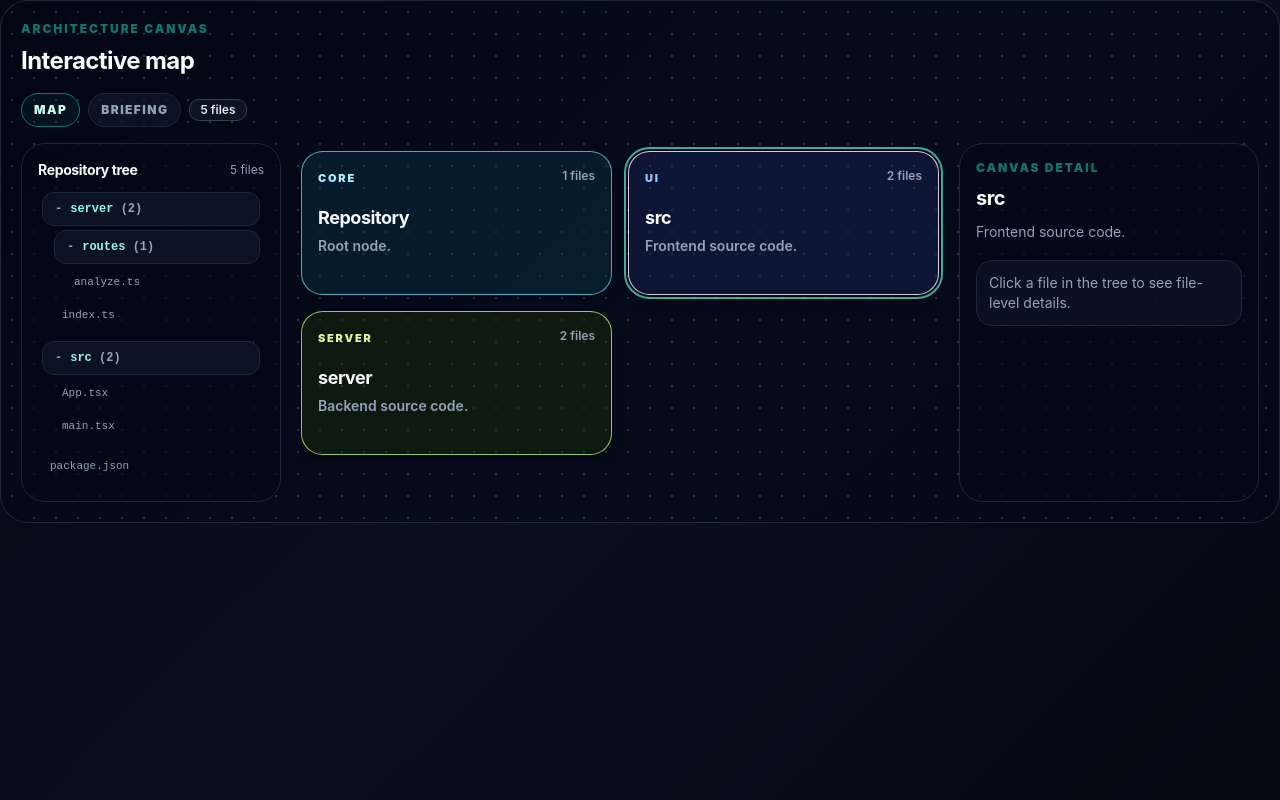
Test: ArchitectureMap › shows five open-first shortcuts and repository risks
Expected: the heading "Full-stack web application" is not shown
Click the button "Briefing" at point(135, 110), box [88, 93, 181, 127]
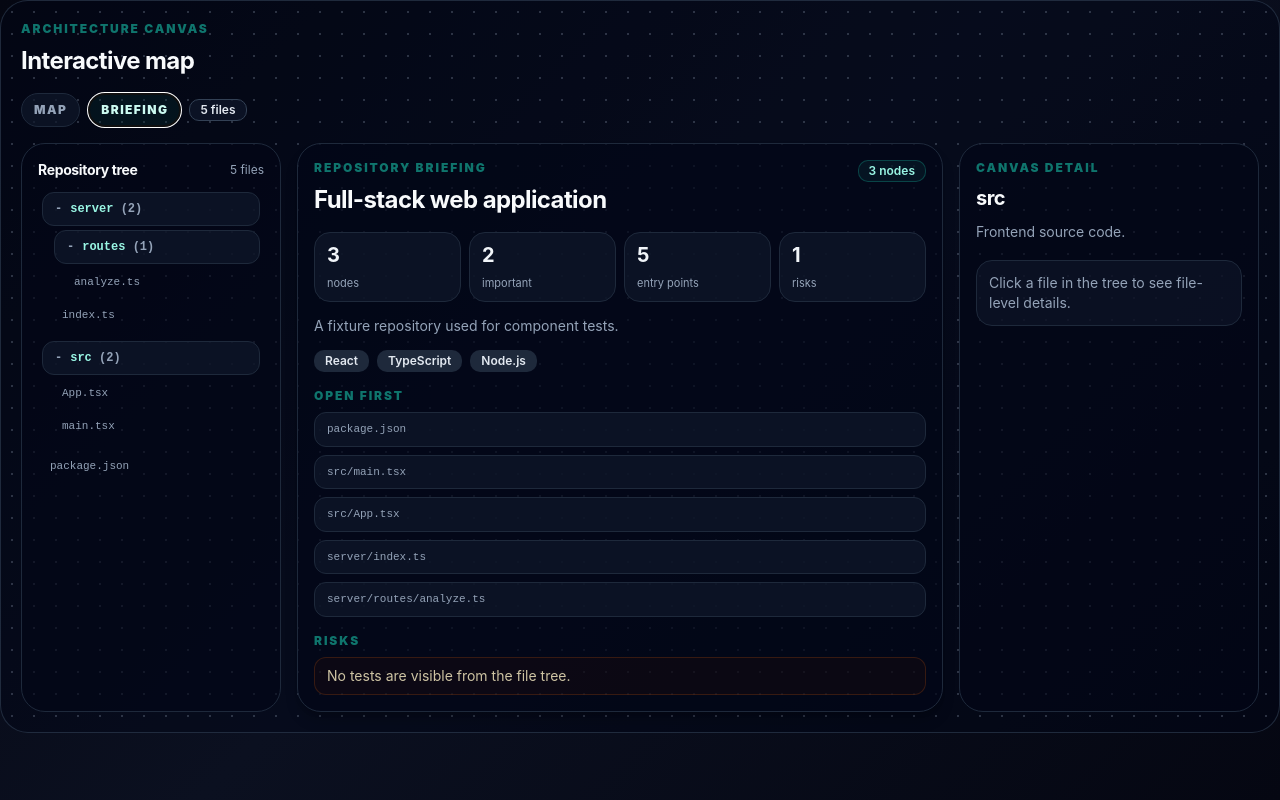
Expected: the text "Repository briefing" is shown, [314, 160, 487, 175]
Expected: the list item "No tests are visible from the file tree." is shown, [314, 656, 926, 694]
Expected: the button "server/routes/analyze.ts" is shown, [314, 582, 926, 616]
